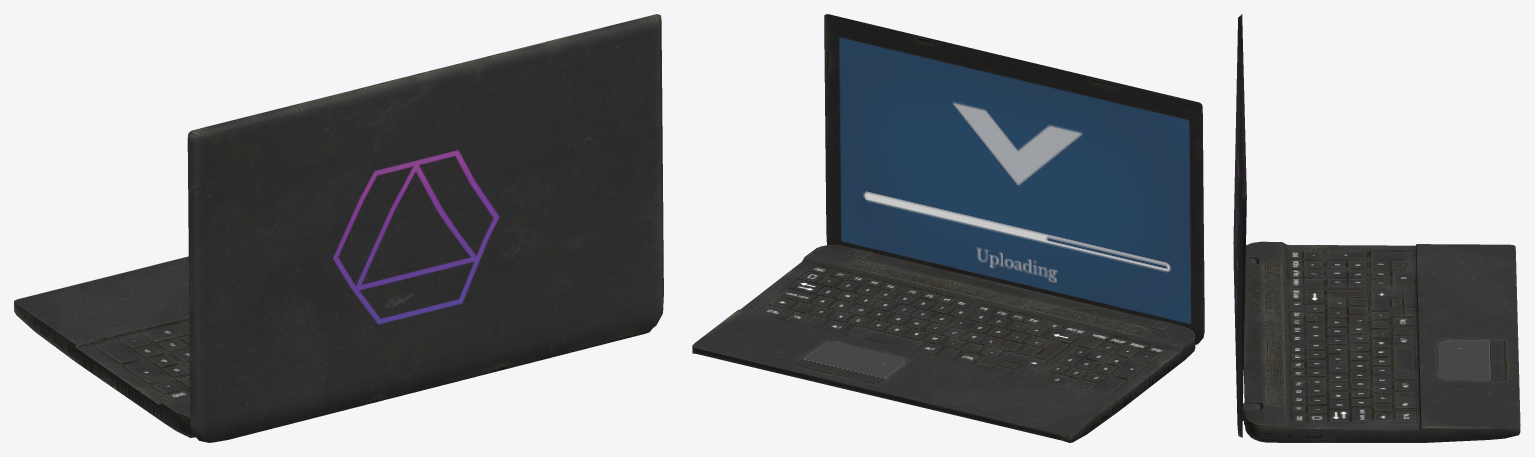
The model's file is SM_Laptop.fbx.
3 views of the same model, side by side, from view 1: azimuth 30°, elevation 25°; view 2: azimuth 150°, elevation 25°; view 3: azimuth 270°, elevation 25° (orthographic). The views are drawn at different scales.
Visible parts, largest first — view 1: SM_Laptop_LOD0; view 2: SM_Laptop_LOD0; view 3: SM_Laptop_LOD0.
Part boxes in pixels (box(x1,y1,x2,y2)): SM_Laptop_LOD0: box(14, 14, 663, 442); SM_Laptop_LOD0: box(692, 14, 1204, 442); SM_Laptop_LOD0: box(1233, 14, 1520, 442).
Size of the model in its own units: 46.6 by 30.52 by 29.52.
